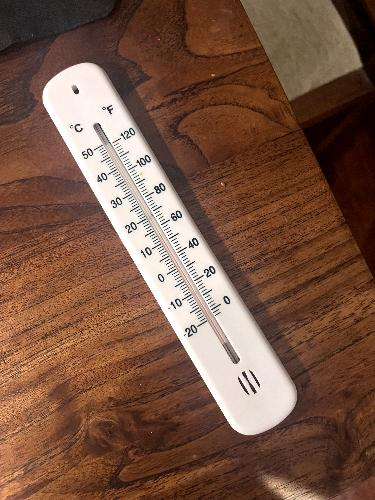thermo: (32, 50, 304, 439)
